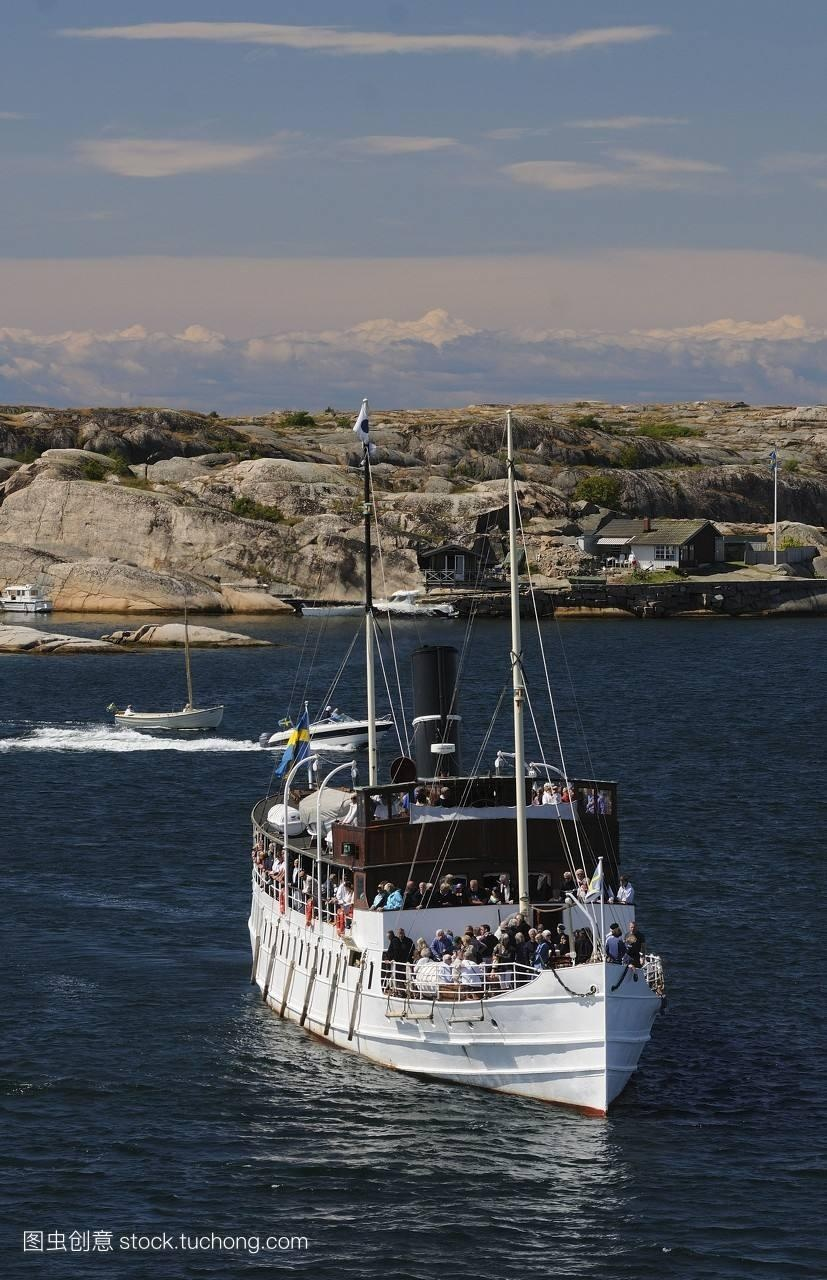otherboat: (247, 675, 677, 1127), (101, 686, 230, 730)
